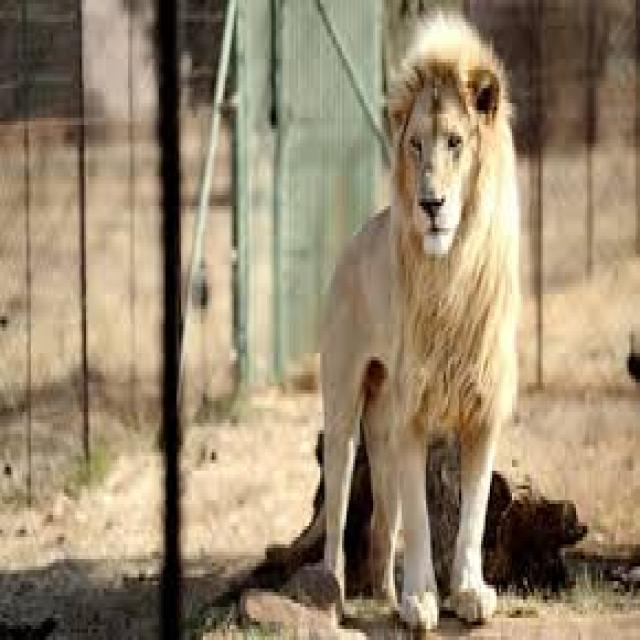Lion: (322, 5, 523, 636)
